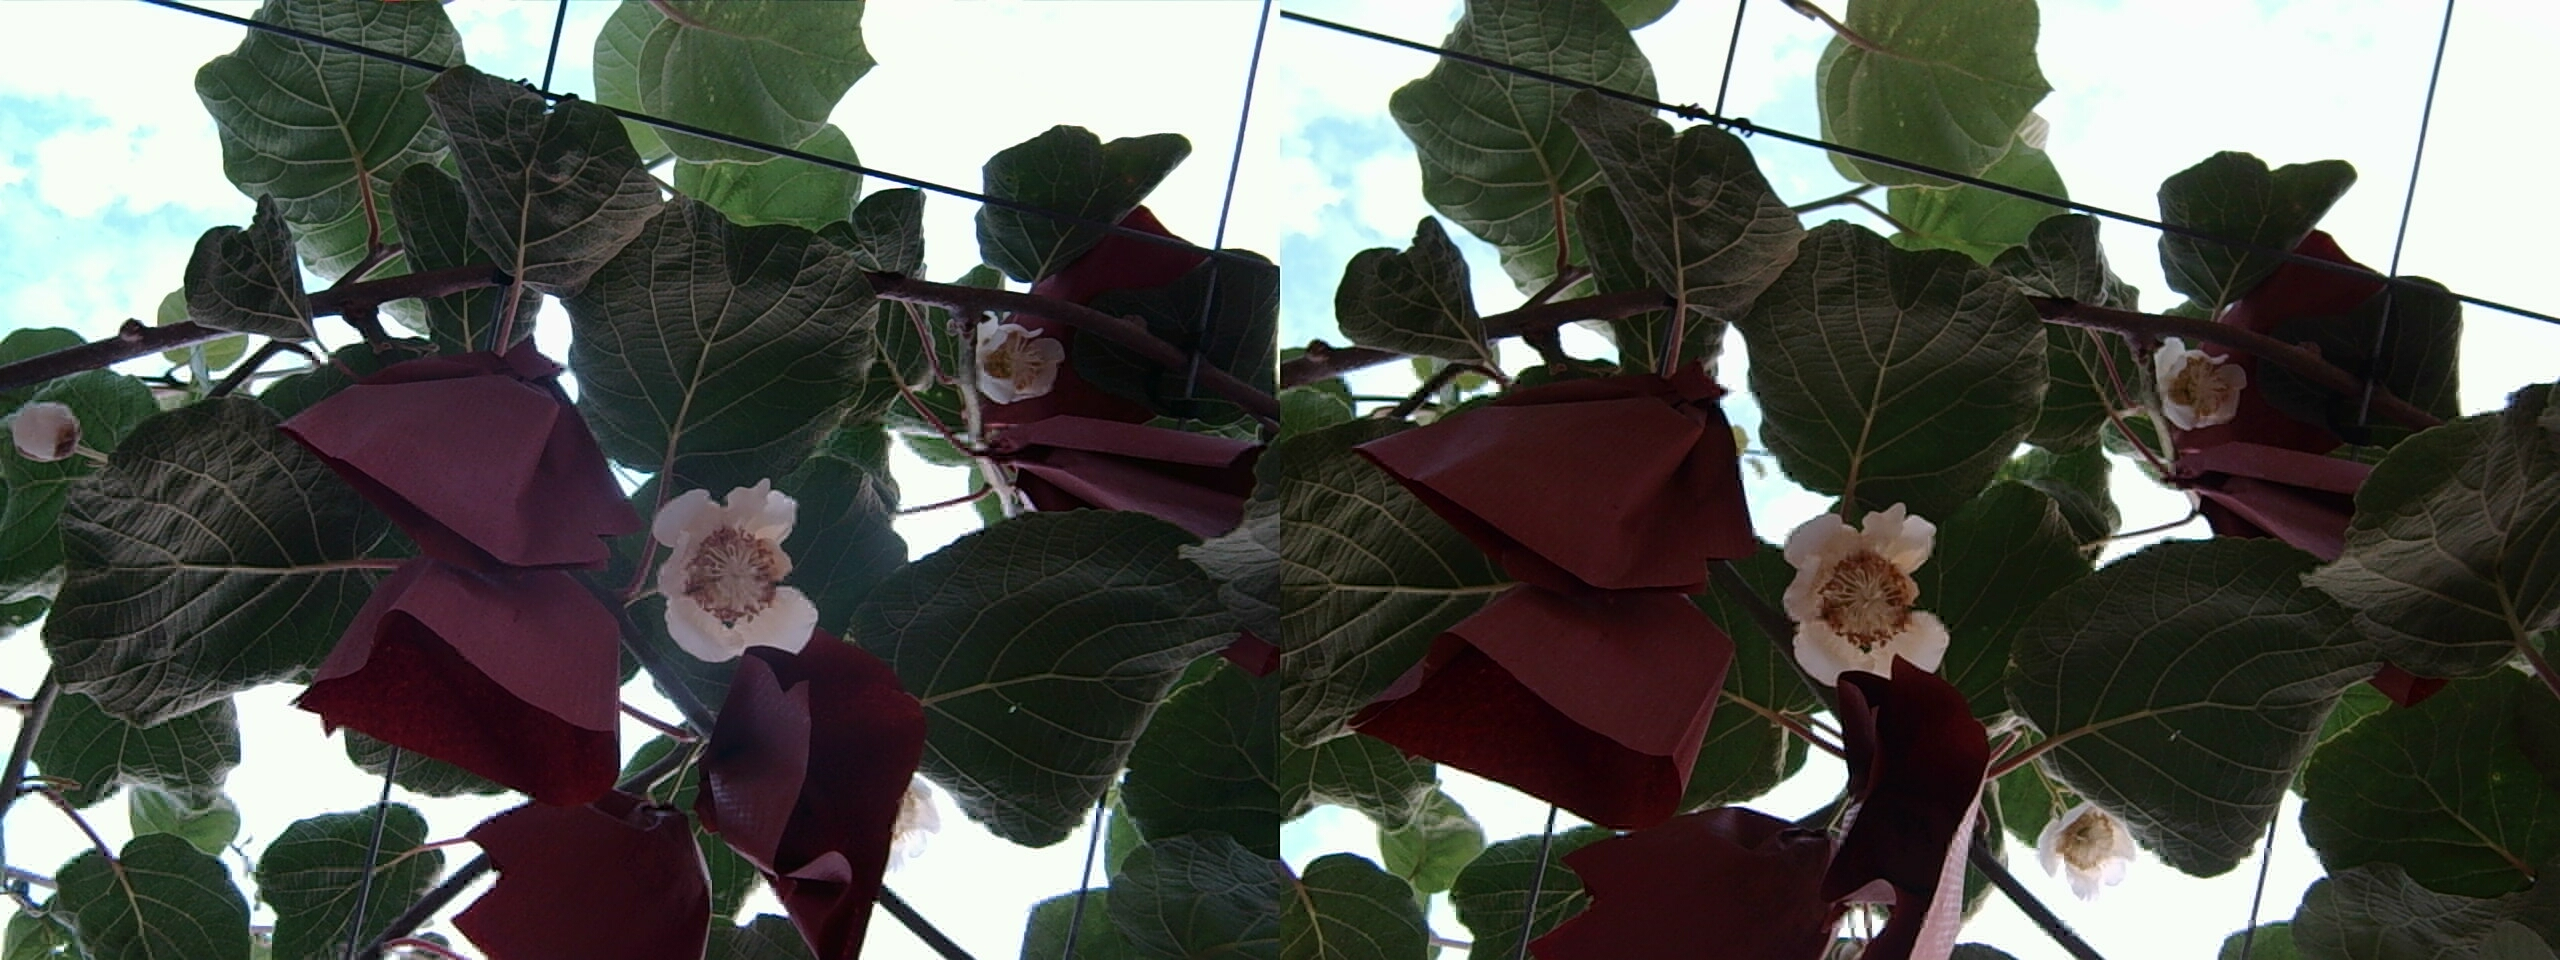flower: (1770, 491, 1949, 699), (643, 470, 813, 658)
